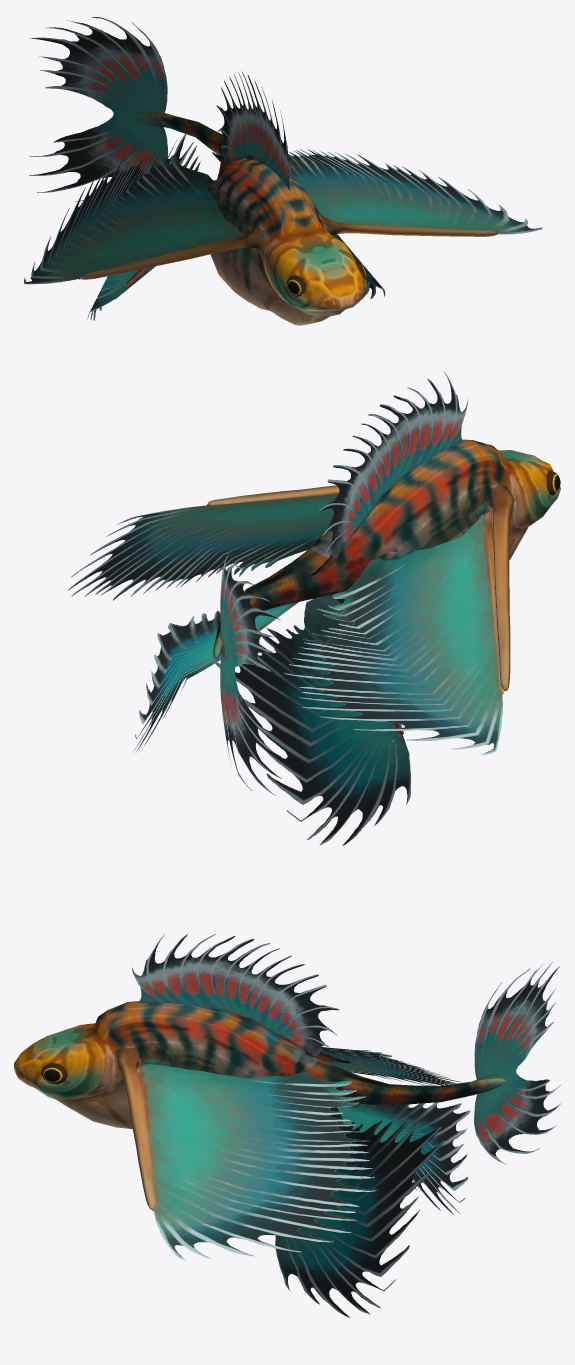
The model's file is fish_000022.obj.
3 views of the same model, one above another, from view 1: azimuth 30°, elevation 25°; view 2: azimuth 150°, elevation 25°; view 3: azimuth 270°, elevation 25° (orthographic). The views are drawn at different scales.
Parts seen in each view (by area): view 1: flyingFish_low_StingrayPBS1_0; view 2: flyingFish_low_StingrayPBS1_0; view 3: flyingFish_low_StingrayPBS1_0.
Boxes of the visible parts, <box> form: flyingFish_low_StingrayPBS1_0: <box>24,17,542,325</box>; flyingFish_low_StingrayPBS1_0: <box>68,371,560,845</box>; flyingFish_low_StingrayPBS1_0: <box>14,934,560,1317</box>.
Size of the model in its own units: 17.18 by 13.19 by 18.35.
1 material, 1 textured.
